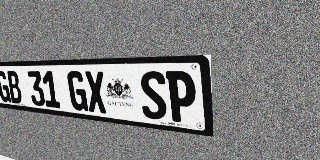1: (41, 71, 60, 108)
3: (27, 71, 46, 107)
B: (6, 71, 23, 104)
G: (66, 71, 88, 112), (0, 71, 11, 103)
P: (166, 71, 197, 124)
S: (139, 71, 168, 121)
X: (84, 71, 108, 114)
